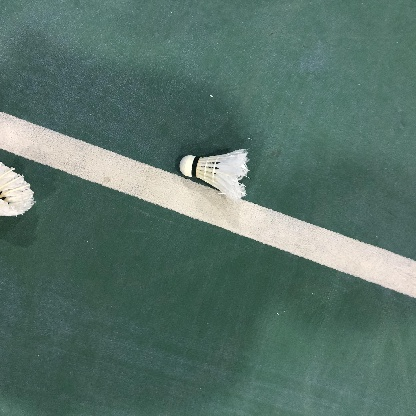ball_single: (179, 149, 248, 200), (0, 162, 35, 216)
